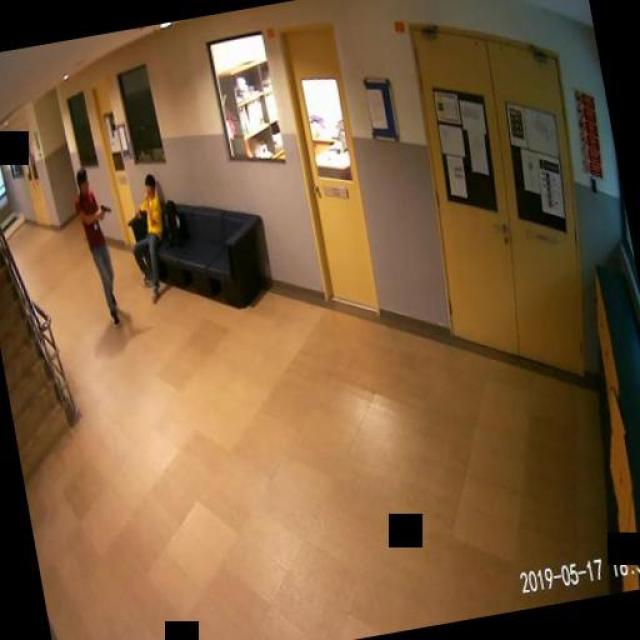gun: (96, 202, 110, 218)
